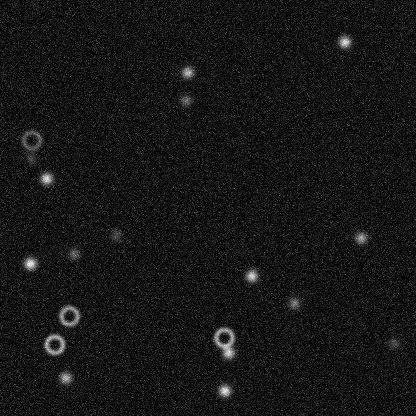Ring: (57, 303, 81, 327), (19, 128, 43, 152), (42, 332, 66, 356), (212, 325, 236, 349)
Spot: (57, 369, 73, 385), (65, 245, 81, 261), (336, 33, 352, 49), (286, 295, 302, 311), (108, 226, 124, 242), (385, 335, 401, 351), (38, 170, 54, 186), (22, 255, 38, 271), (352, 229, 368, 245), (23, 150, 39, 166), (179, 64, 195, 80), (177, 92, 193, 108), (220, 344, 236, 360), (216, 382, 232, 398), (243, 267, 259, 283)
